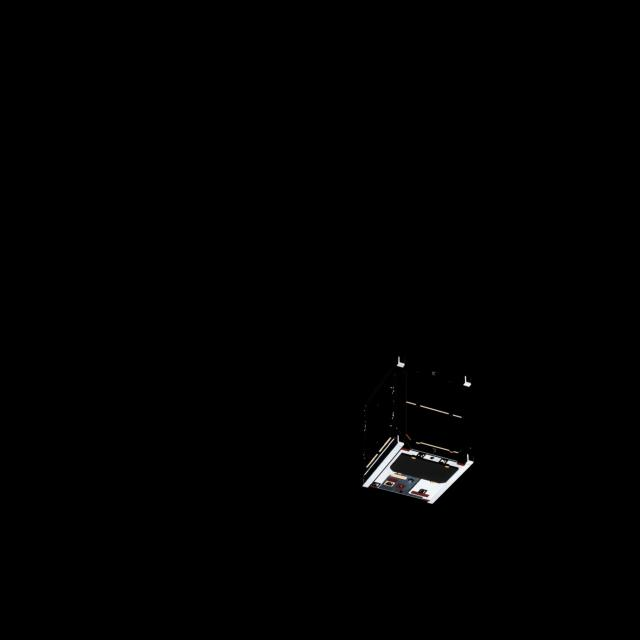medium_debris: (354, 352, 482, 509)
